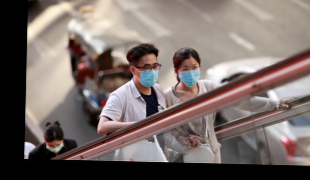with_mask: (135, 60, 160, 87), (177, 64, 201, 87), (45, 141, 64, 153)
